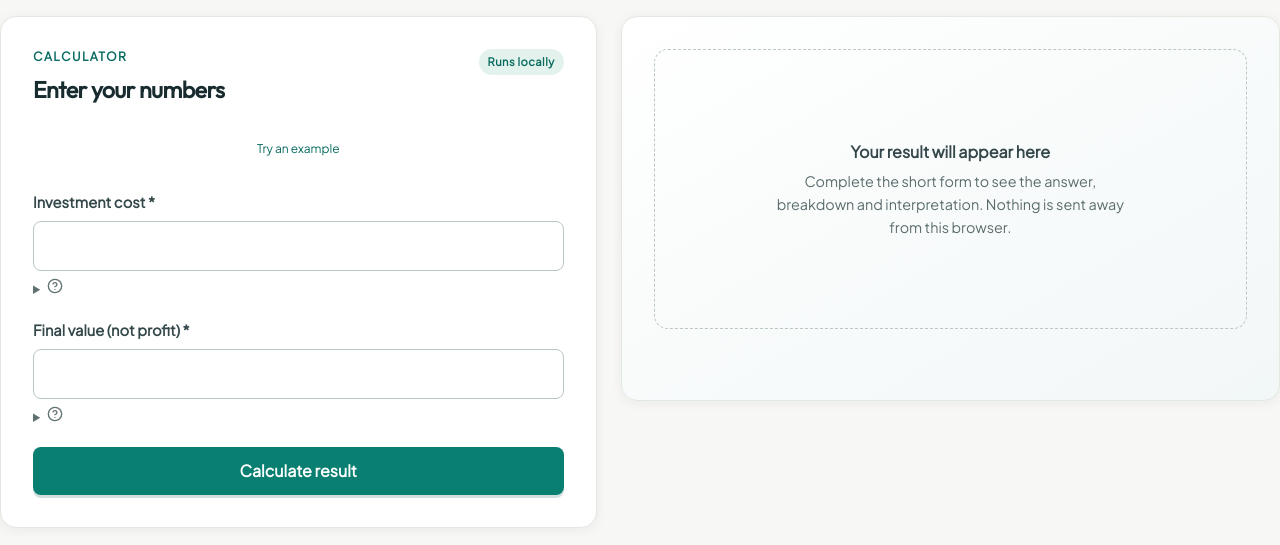
Scenario: calculator form integration › loads an explicit ROI example and updates it while typing
The image size is (1280, 545).
Click the button "Try an example": (298,149) [33,127,564,171]
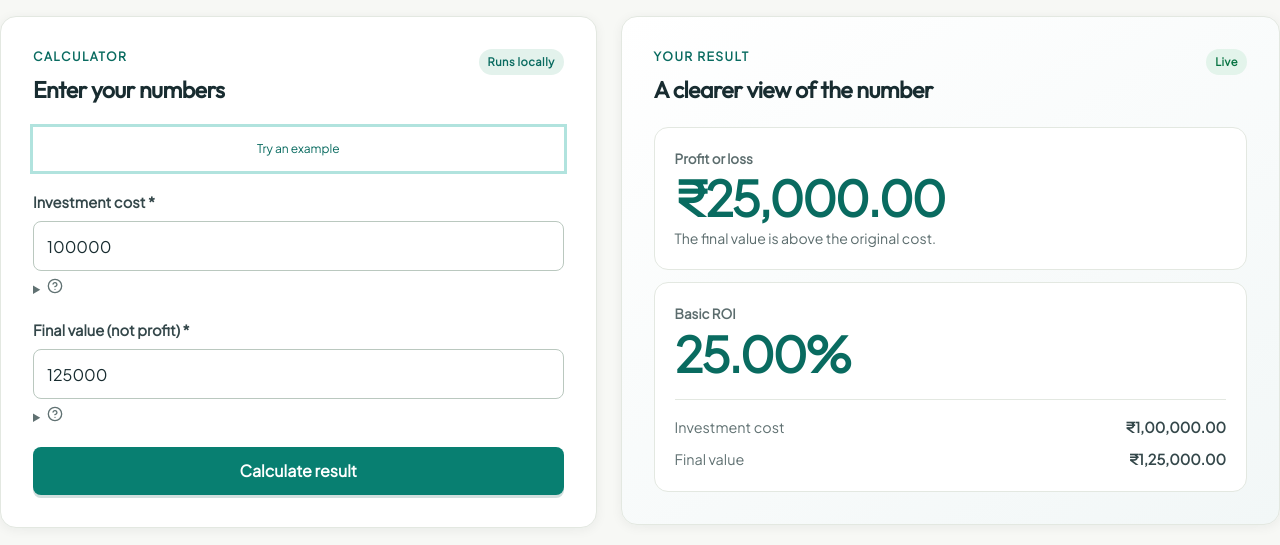
Now the text "25.00%" is shown, box [675,323,849,384]
Replace the text in the field labelled "Final value (not profit) *" with "150000": (298,374) [33,349,564,399]
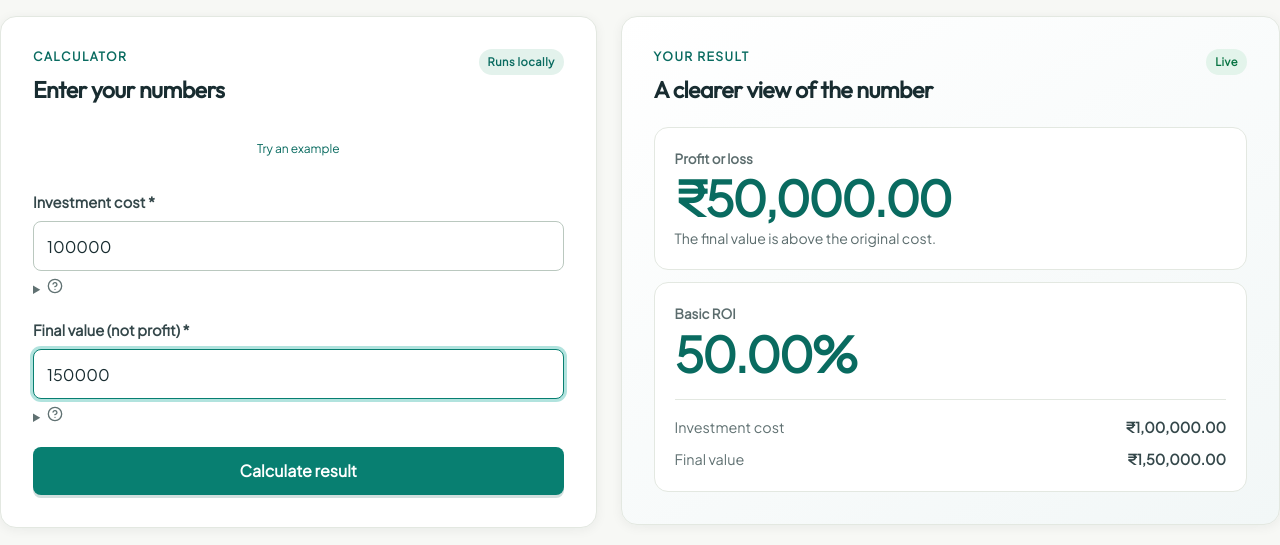
Now the text "50.00%" is shown, box [675,323,856,384]
Now the text "₹50,000.00" is shown, box [675,167,950,228]
